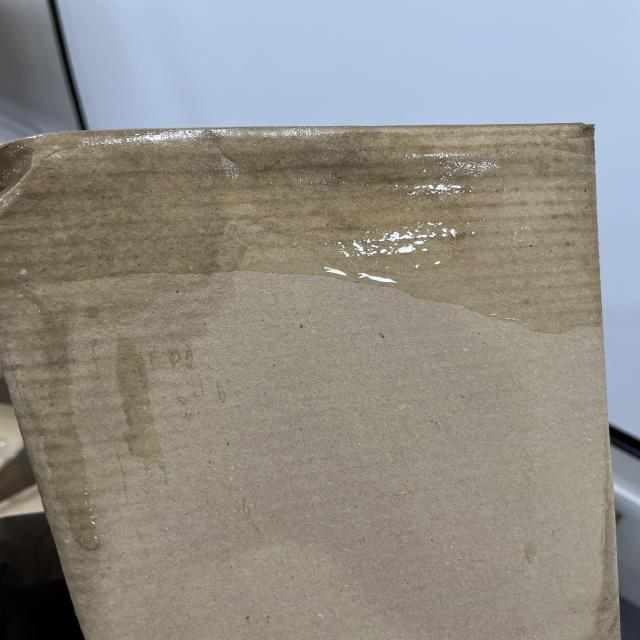wet: (6, 112, 605, 307)
